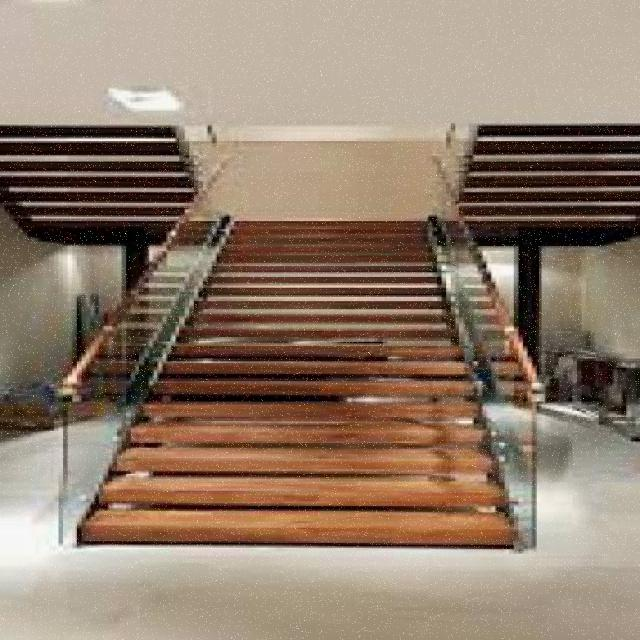stair: (7, 151, 570, 554)
